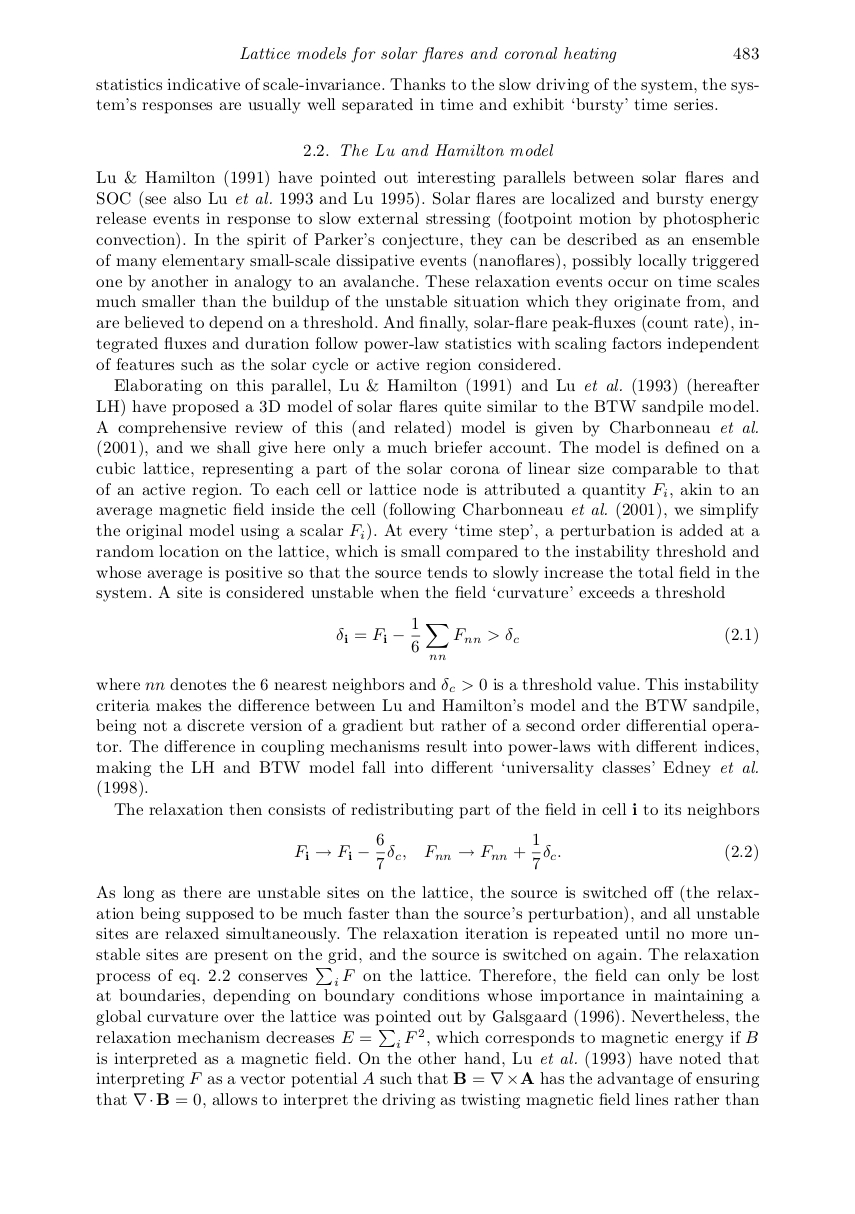formula: (336, 616, 757, 660), (294, 831, 757, 870)
